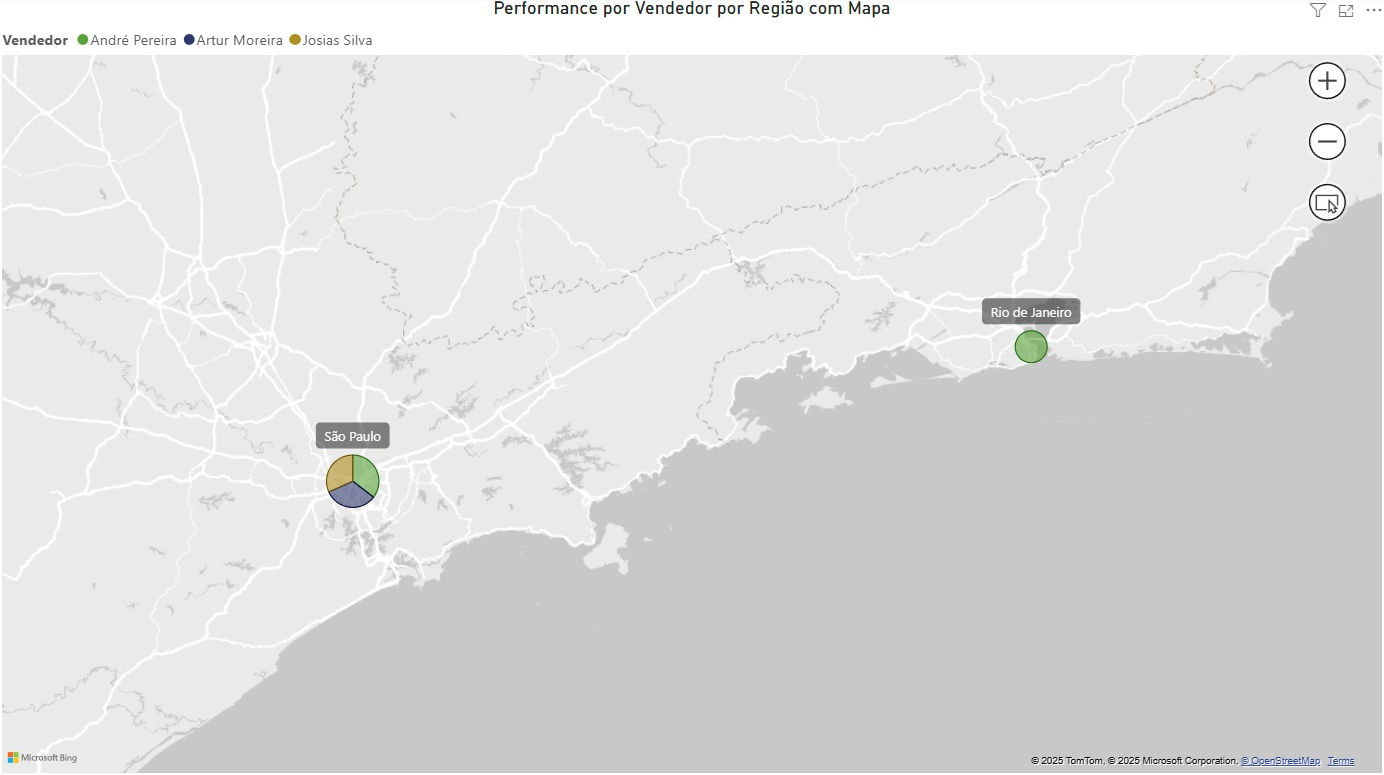

This screenshot's page, from the dashboard's own definition file:
{"tool":"powerbi","page":{"name":"Performance por Vendedor por Região com Mapa","canvas":[1280,720],"ordinal":4},"visuals":[{"type":"map","title":"Performance por Vendedor por Região com Mapa","fields":{"Category":["DadosComerciais.Estado"],"Series":["DadosComerciais.Vendedor"],"Size":["Sum(DadosComerciais.ValorVenda)"]},"box":[0,0,1280,720.4],"z":0}]}

Visuals, with their boxes in screenshot pixels (x1, y1, x2, y2), scaled from the page's 1280x720 canvas onto the 1384x775 screenshot:
"Performance por Vendedor por Região com Mapa" map: x1=0 y1=0 x2=1383 y2=774
